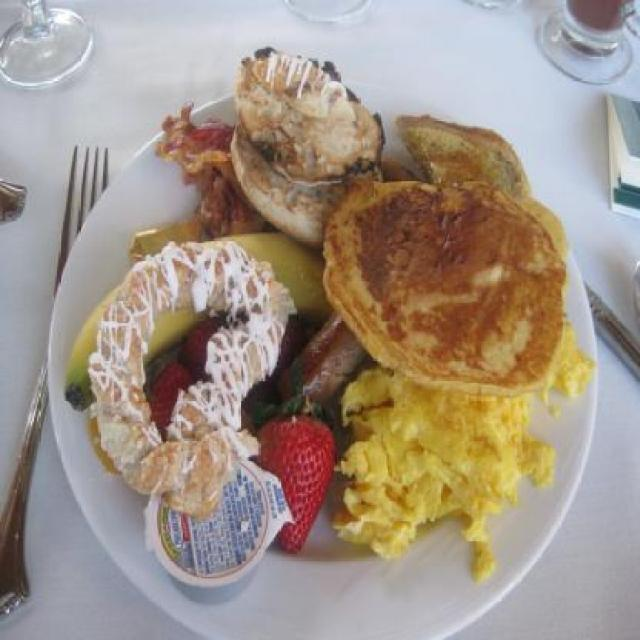Pancake: (318, 175, 587, 416)
